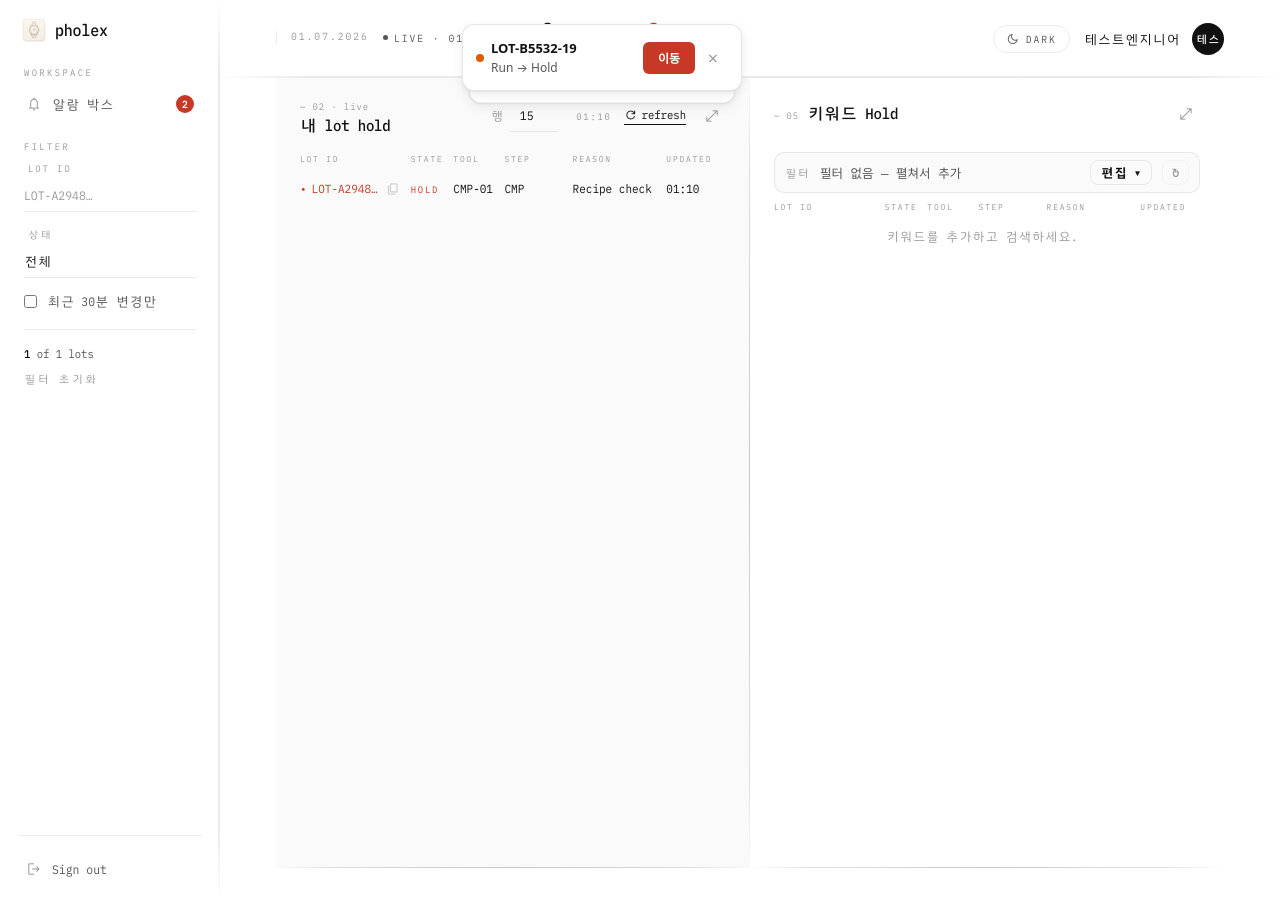
Test case: Alarm dock › removes the alarm when its item is clicked (click = dismiss + jump)
The width and height of the screenshot is (1280, 900).
Expected: the heading "내 lot hold" is shown, 300,116 -> 390,135
Expected: the text "2" is shown, 176,95 -> 194,113
Note: 박스 열기 → 두 알람 모두 보임
Click the button "알람 박스 2": (110, 104) 18,88 -> 202,120
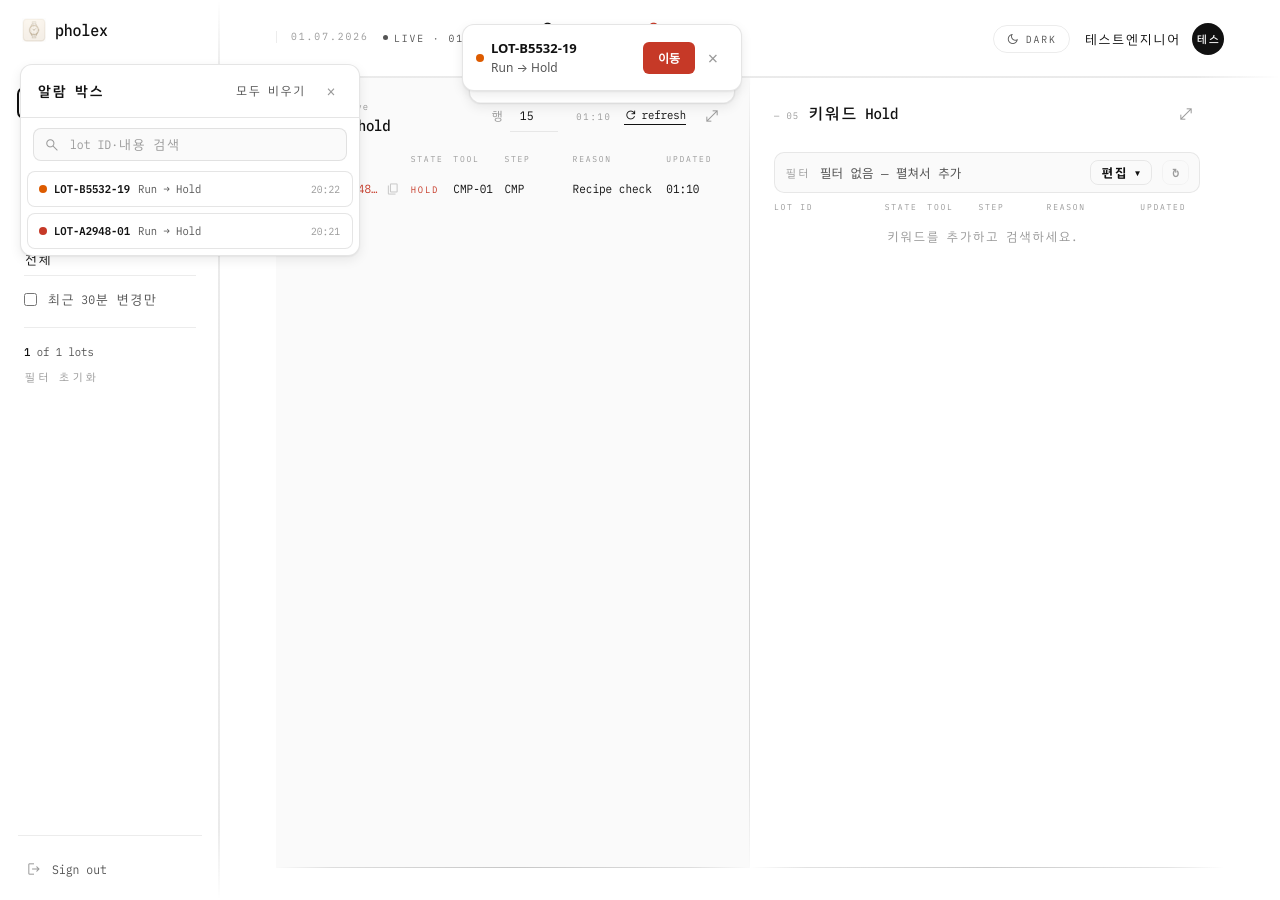
Now the text "LOT-A2948-01" is shown
Now the text "LOT-B5532-19" in the row of "CMP-01" is shown, box 54,182 -> 130,196
Click the text "LOT-A2948-01": (92, 231) 54,224 -> 130,238
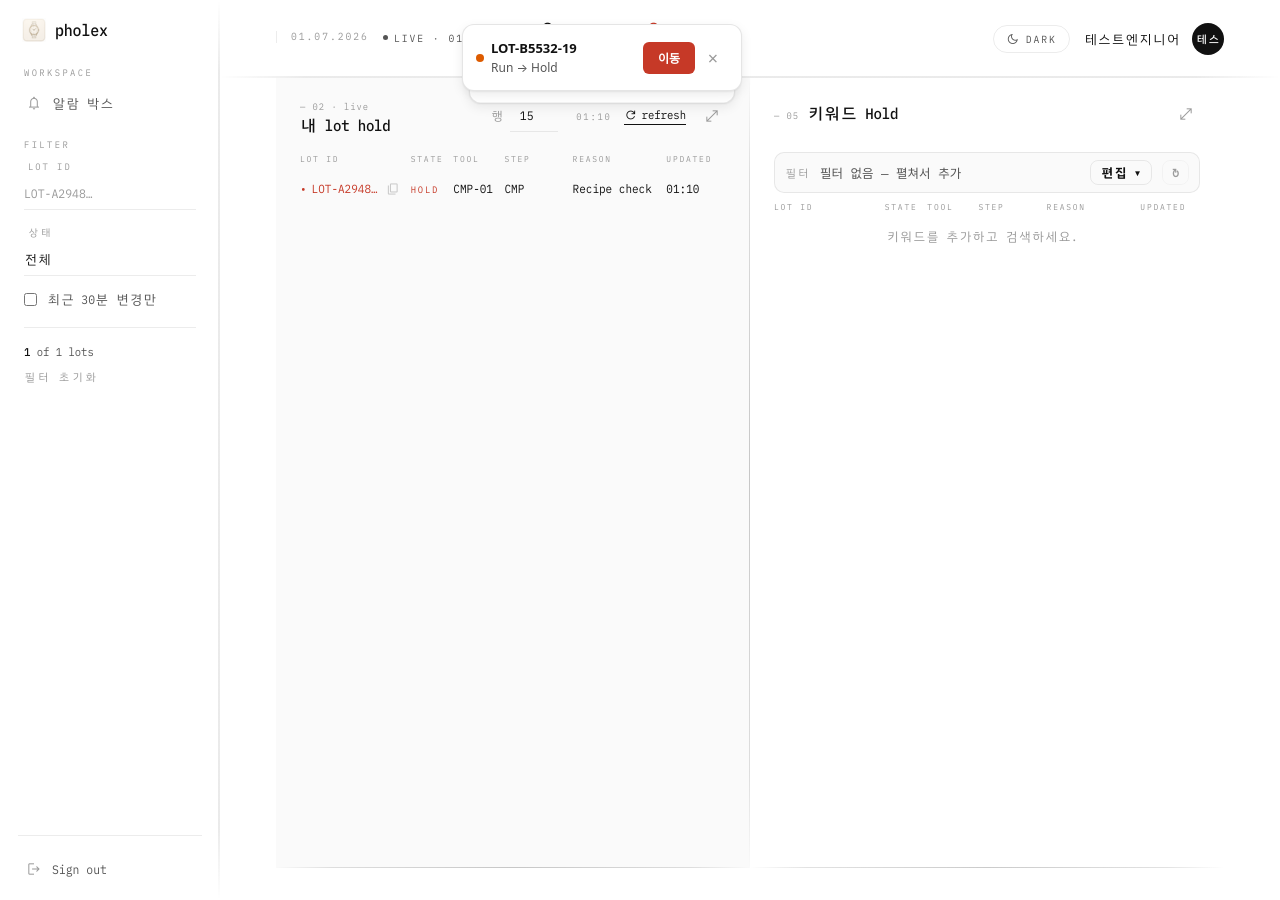
Click the button "알람 박스": (110, 103) 18,88 -> 202,118
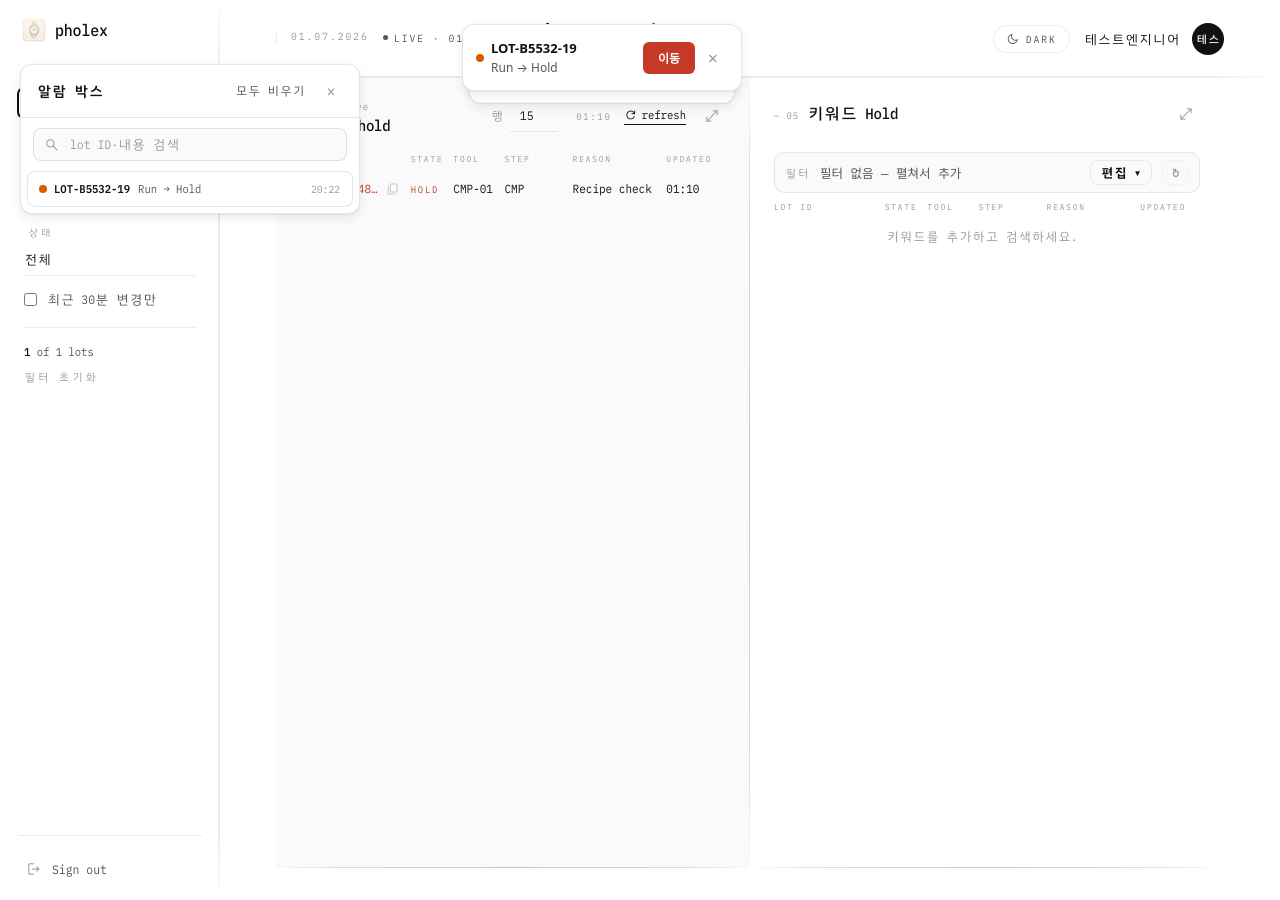
Now the text "LOT-B5532-19" in the row of "CMP-01" is shown, box 54,182 -> 130,196
